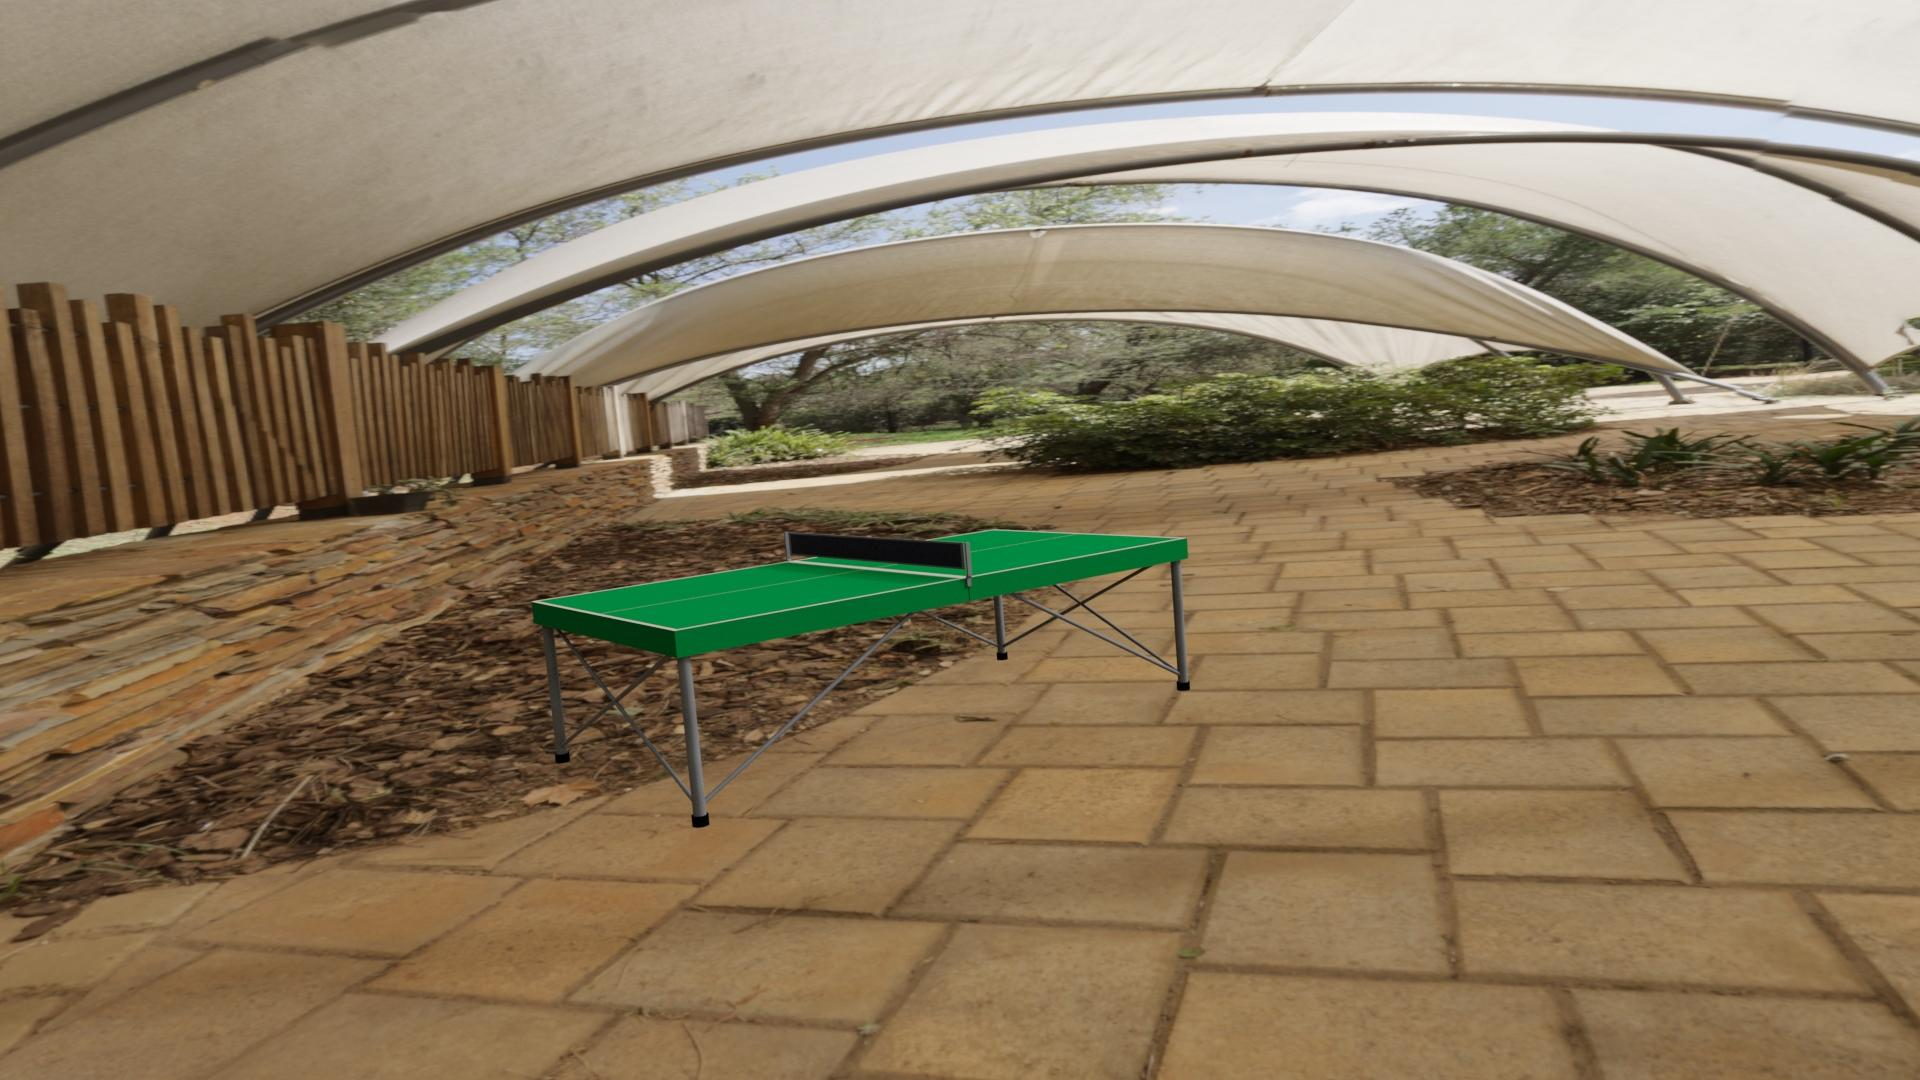table: (537, 530, 1182, 629)
